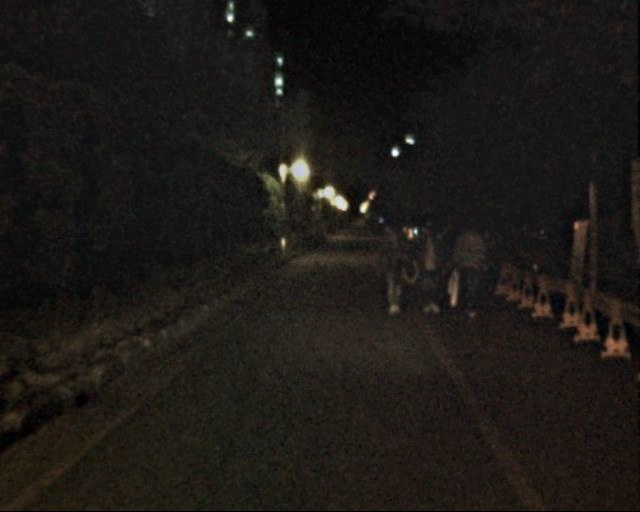person: (449, 225, 486, 316), (407, 224, 444, 315), (374, 226, 411, 317), (471, 225, 503, 304)
